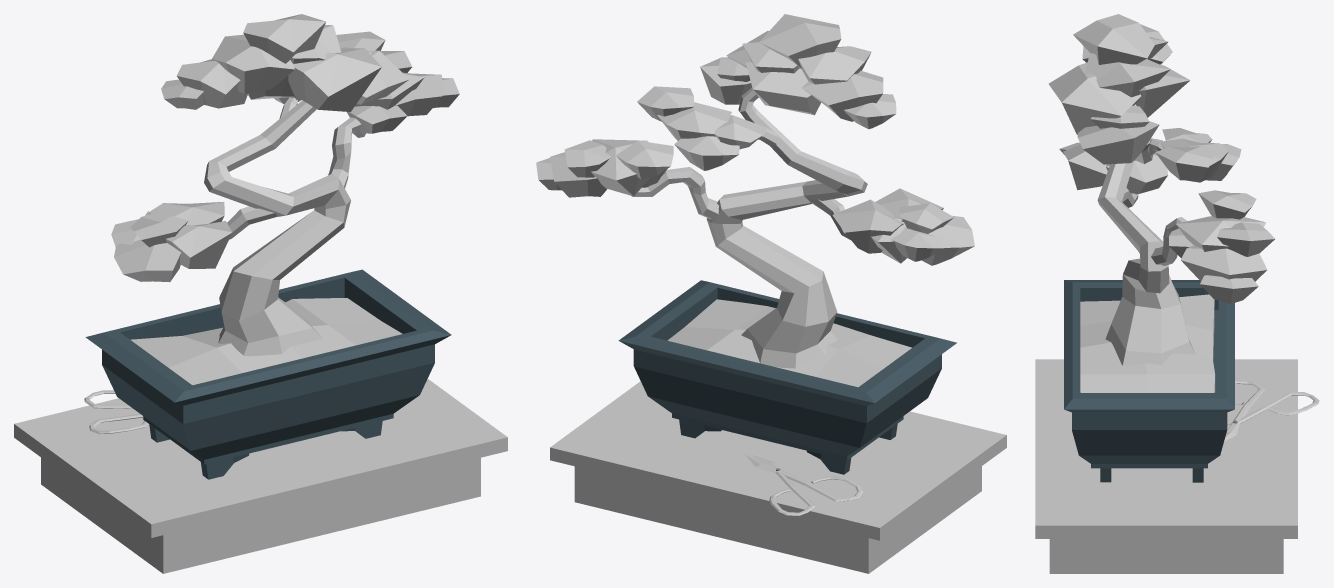
The picture shows the model from 3 angles, left to right: view 1: azimuth 30°, elevation 25°; view 2: azimuth 150°, elevation 25°; view 3: azimuth 270°, elevation 25°; orthographic projection. The views are drawn at different scales.
Parts seen in each view (by area): view 1: group430673059; view 2: group430673059; view 3: group430673059.
Part boxes in pixels (x1,y1,x2,y2): group430673059: (14, 14, 507, 573); group430673059: (536, 14, 1006, 573); group430673059: (1035, 14, 1319, 573).
Size of the model in its own units: 1.53 by 1.78 by 0.9741.
